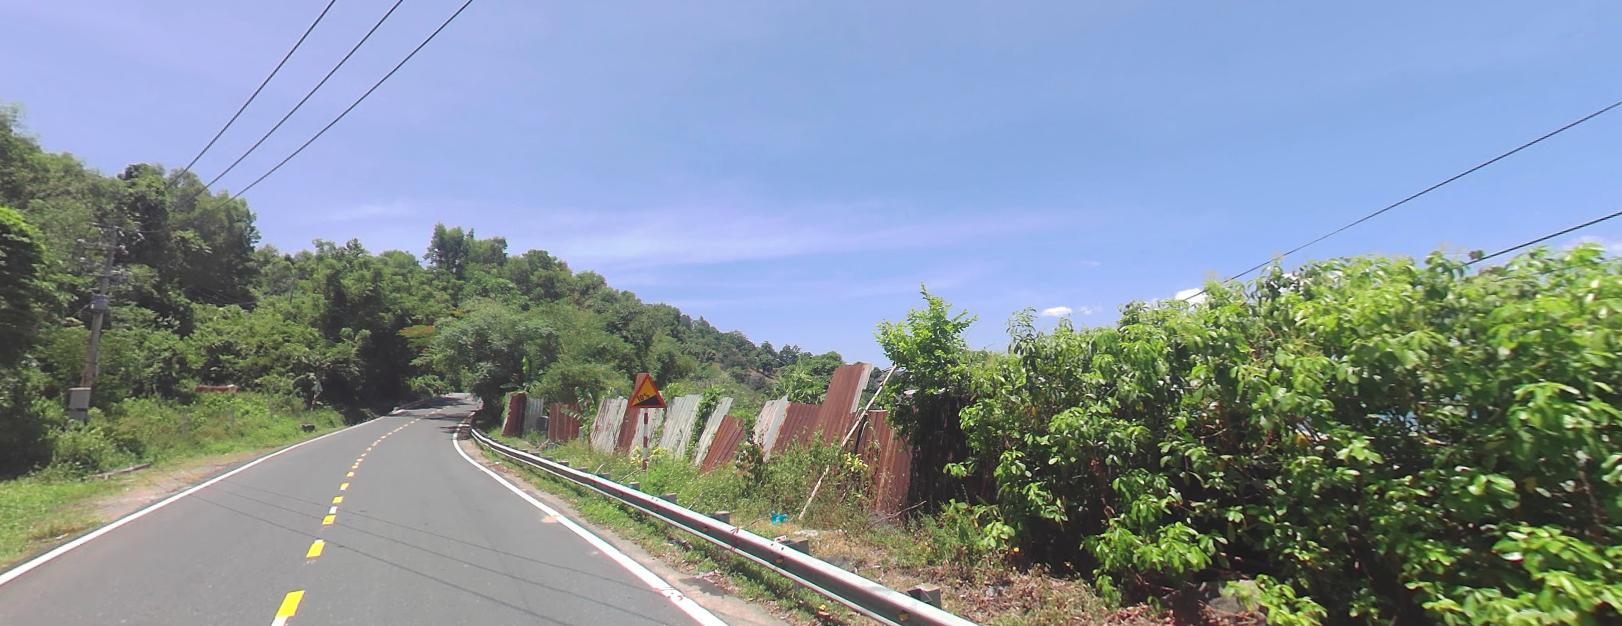Nguy hiem: (624, 370, 675, 412)
